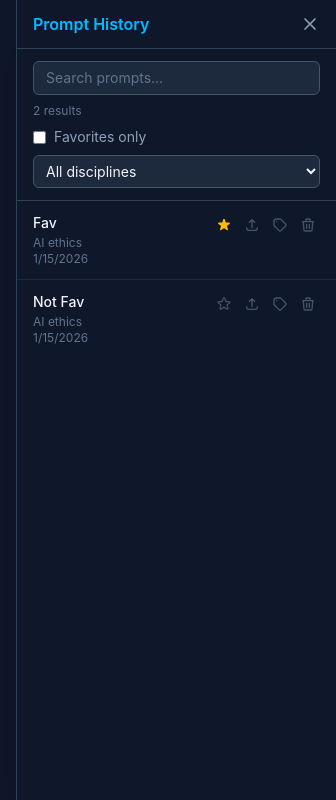
Scenario: PromptHistory — favorites filter › shows only favorites when checkbox is checked
This screenshot has width=336, height=800.
Expected: the text "Fav" is shown, [33,214,57,231]
Click the checkbox labelled "Favorites only".
click(40, 137)  # box [33,130,46,144]
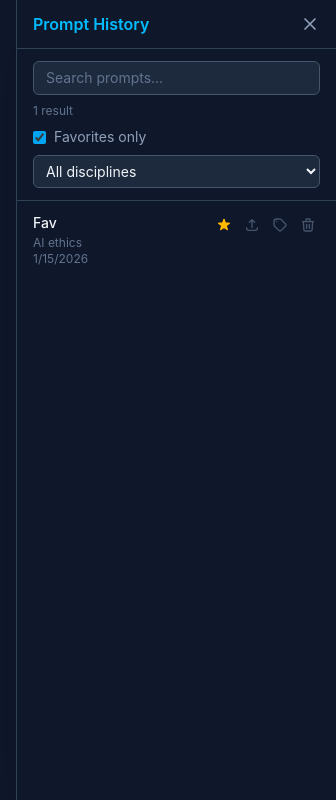
Expected: the text "Fav" is shown, [33,214,57,231]
Result: the text "Not Fav" is gone
